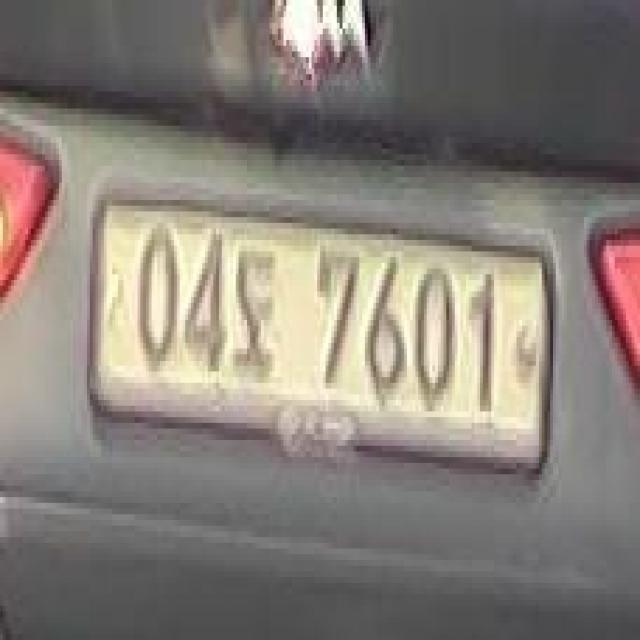illegal_plate: (87, 184, 553, 503)
